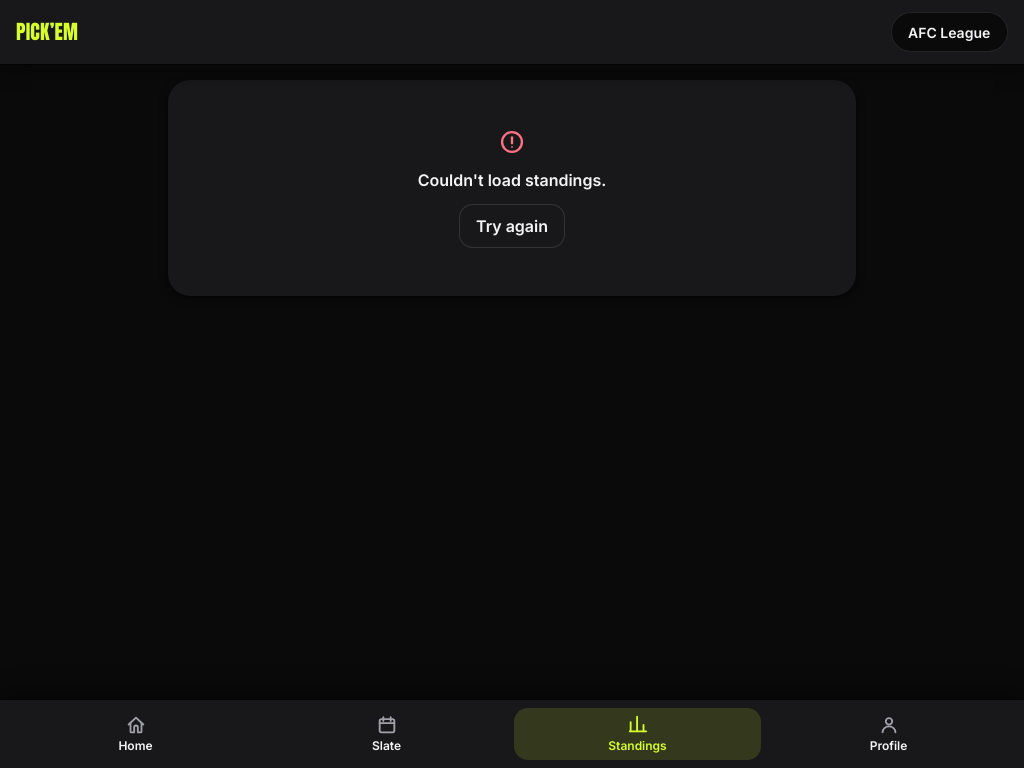
Test case: StandingsScreen › shows an error state with retry on load failure
Expected: the text "Couldn't load standings." is shown, [418,168,606,192]
Click the button "Try again".
click(512, 226)  # box [459,204,565,248]
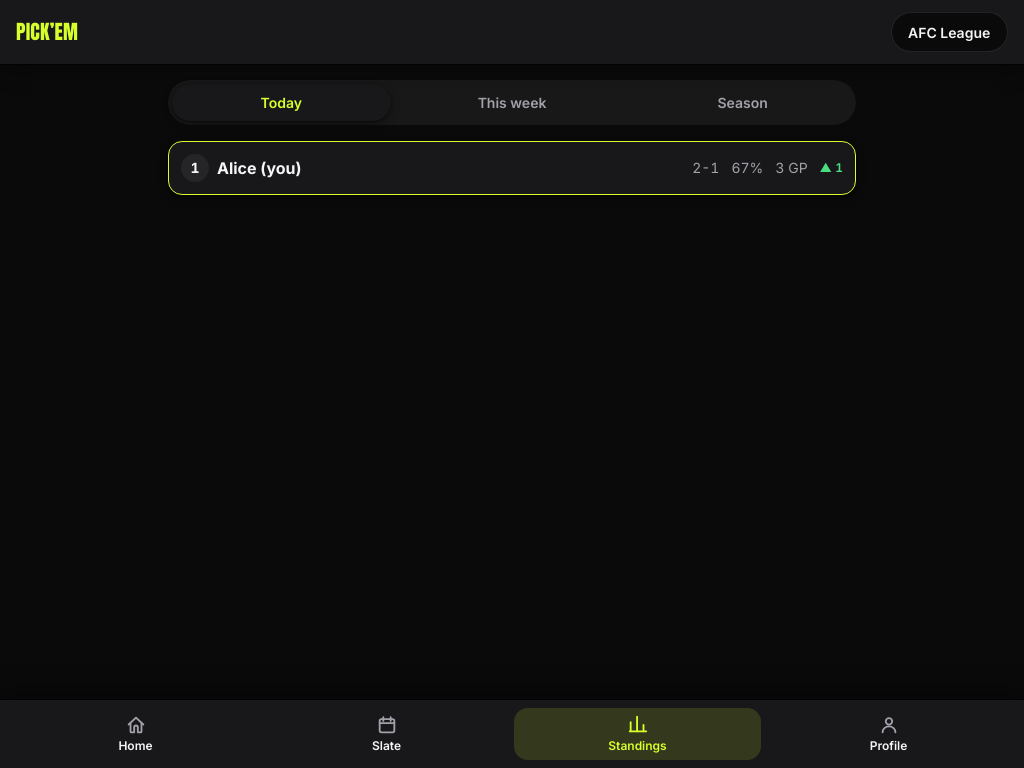
Now the text "Alice (you)" is shown, box [217,156,302,180]
